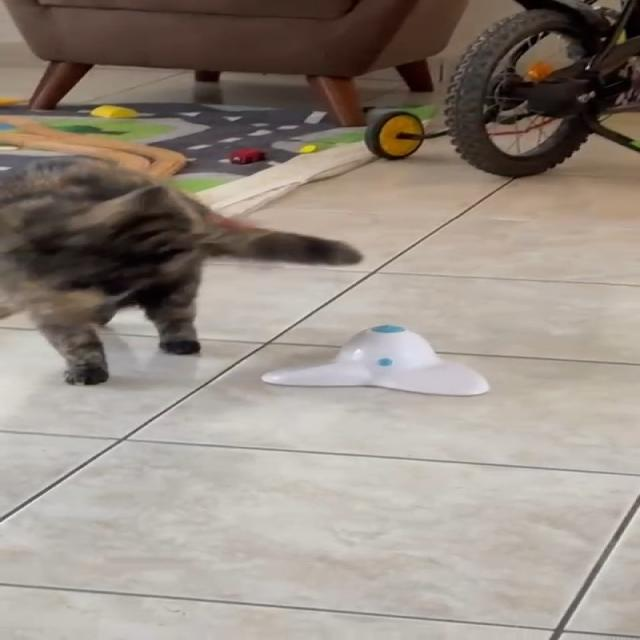authorized: (0, 154, 363, 386)
